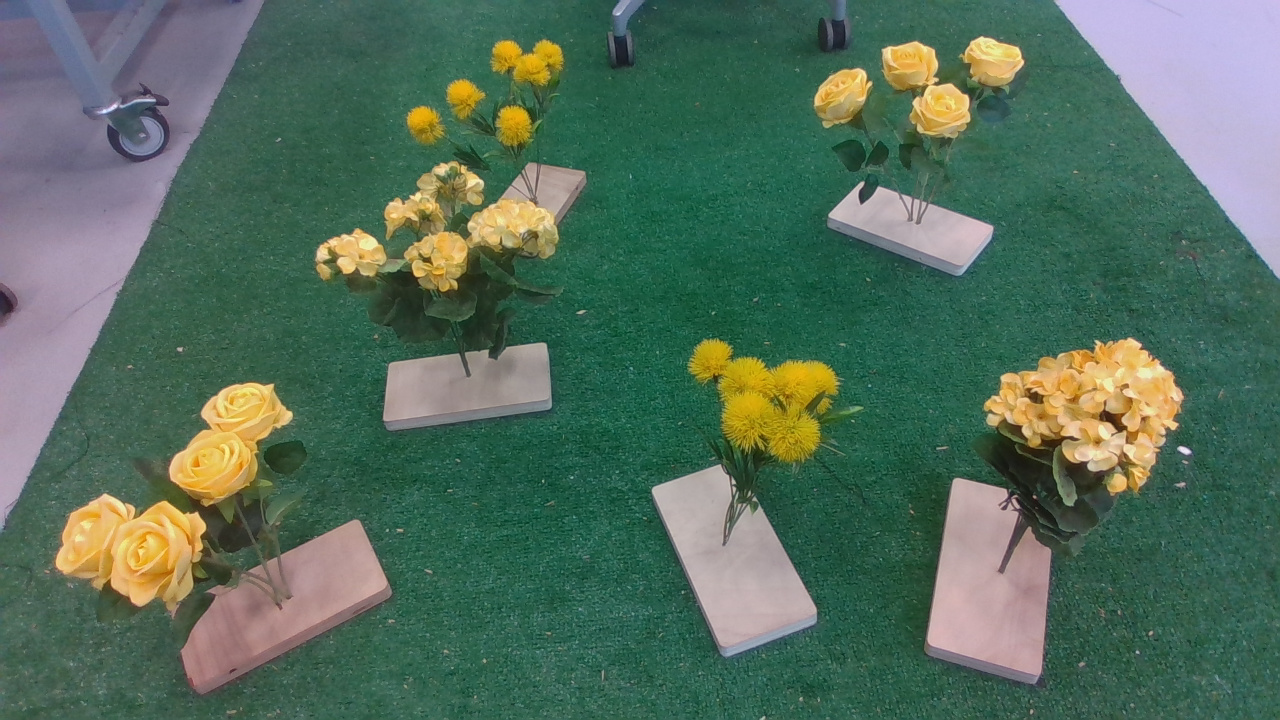dandelion: (686, 337, 870, 491), (392, 41, 580, 161)
geranium: (971, 336, 1194, 568), (312, 167, 575, 353)
rose: (53, 373, 325, 633), (813, 40, 1037, 207)
